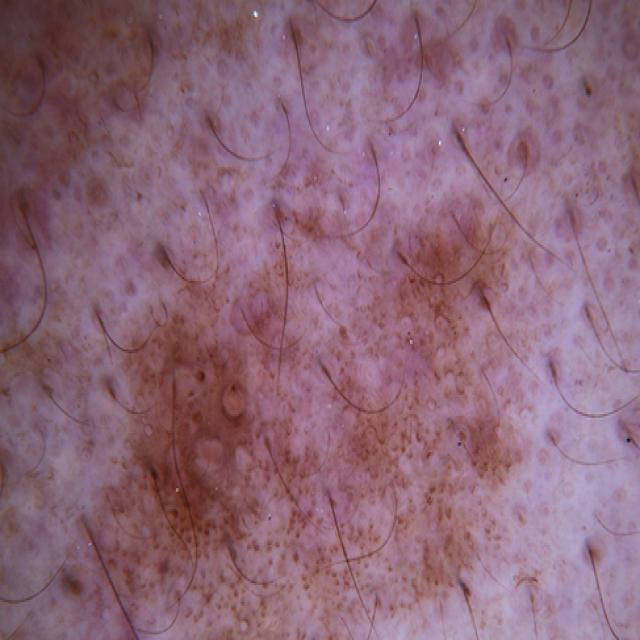Keratosis: (95, 173, 546, 640)
